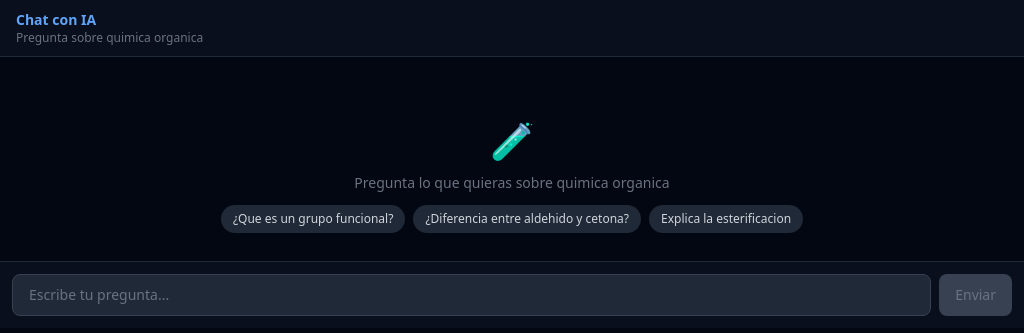
Scenario: Chat › sets input when suggestion button is clicked
What coordinates should you click on to do the following:
click the button "¿Que es un grupo funcional?"
I would click on:
 (313, 219)
Its box is top-left (221, 205), bottom-right (405, 233).
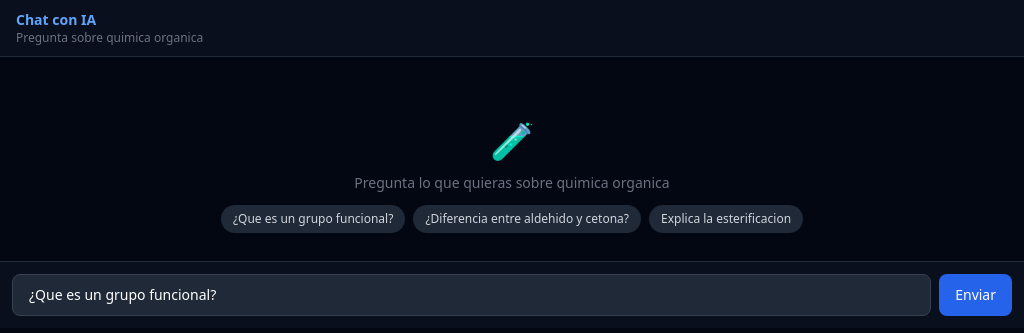
expect the field with placeholder "Escribe tu pregunta..." holds "¿Que es un grupo funcional?": met, box top-left (12, 274), bottom-right (931, 316)
